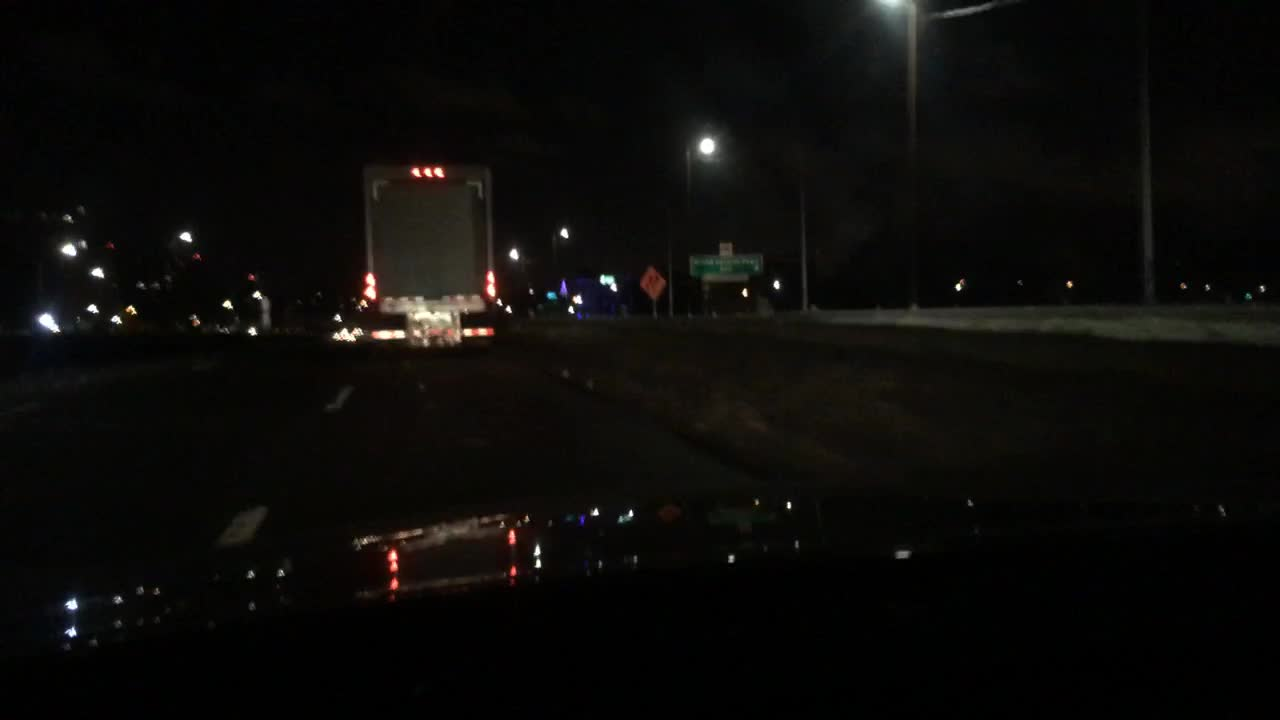traffic sign: (685, 253, 766, 280), (636, 262, 668, 299), (717, 238, 731, 253)
truck: (355, 164, 498, 354)
